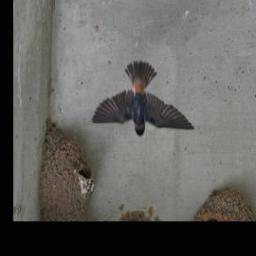Swallow: (91, 61, 198, 140)
